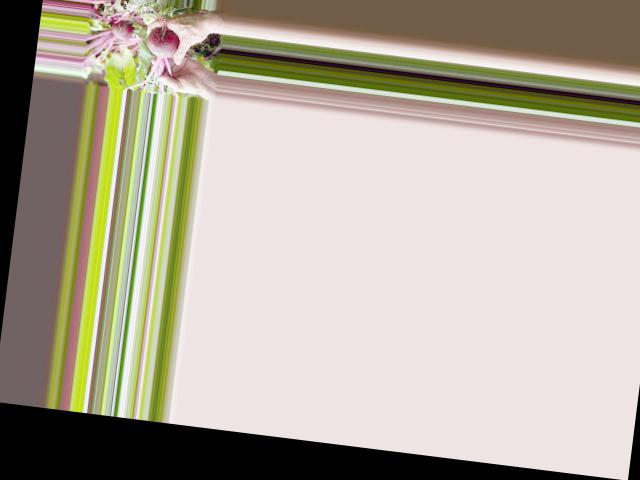beet: (123, 23, 182, 95)
